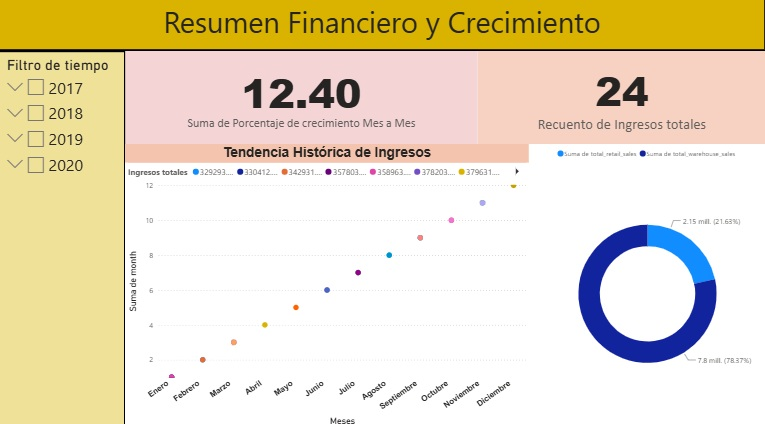

Layout of this report page (visuals, bound fields, positions):
{"tool":"powerbi","page":{"name":"Dashboard Ejecutivo","canvas":[1280,720],"ordinal":0},"visuals":[{"type":"textbox","box":[0,0,1280,89.8],"z":2000},{"type":"slicer","fields":{"Values":["v_bsc_financial.year","v_bsc_financial.Nombre Mes"]},"box":[0,90,211.7,630],"z":7000},{"type":"card","fields":{"Values":["CountNonNull(v_bsc_financial.total_revenue)"]},"box":[800,90,480,155],"z":7001},{"type":"card","fields":{"Values":["Sum(v_bsc_learning_growth.Porcentaje de crecimiento maternal)"]},"box":[211.7,90,588.3,155],"z":7002},{"type":"lineChart","title":"Tendencia Histórica de Ingresos","fields":{"Category":["v_bsc_financial.Nombre Mes"],"Series":["v_bsc_financial.Ingresos totales"],"Y":["Sum(v_bsc_financial.month)"]},"box":[211.7,245,673.3,475],"z":7003},{"type":"donutChart","fields":{"Y":["Sum(v_bsc_financial.total_retail_sales)","Sum(v_bsc_financial.total_warehouse_sales)"]},"box":[885,245,395,475],"z":7004}]}

Visuals, with their boxes in screenshot pixels (x1, y1, x2, y2), scaled from the page's 1280x720 canvas onto the 765x424 screenshot:
textbox: l=0, t=0, r=764, b=53
slicer - v_bsc_financial.year x v_bsc_financial.Nombre Mes: l=0, t=53, r=127, b=423
card - CountNonNull(v_bsc_financial.total_revenue): l=478, t=53, r=764, b=144
card - Sum(v_bsc_learning_growth.Porcentaje de crecimiento maternal): l=127, t=53, r=478, b=144
"Tendencia Histórica de Ingresos" lineChart: l=127, t=144, r=529, b=423
donutChart - Sum(v_bsc_financial.total_retail_sales) x Sum(v_bsc_financial.total_warehouse_sales): l=529, t=144, r=764, b=423
